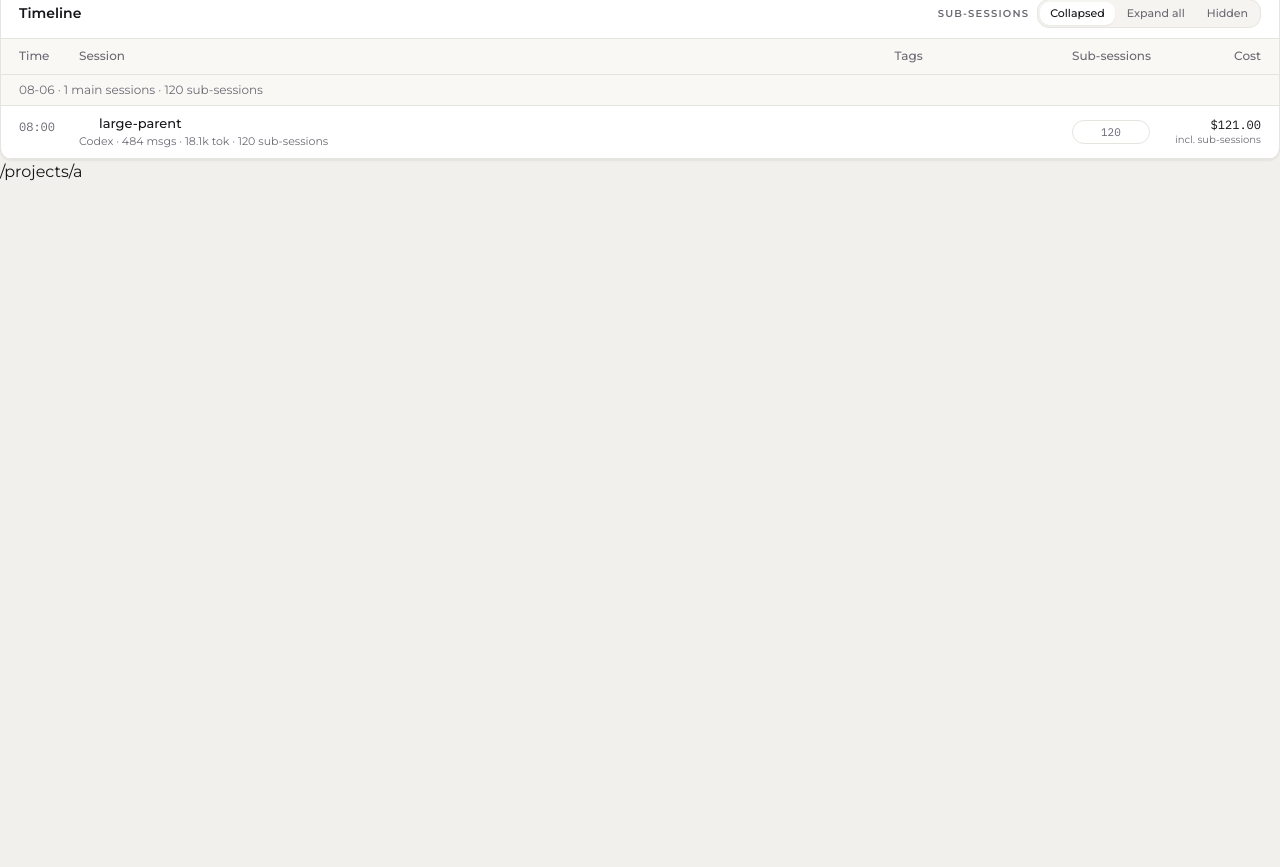
Test case: ProjectTimeline › derives and renders one bounded page of sub-sessions after expansion
Click the button "120": (1111, 132) [1072, 120, 1150, 144]
(page scrolled)
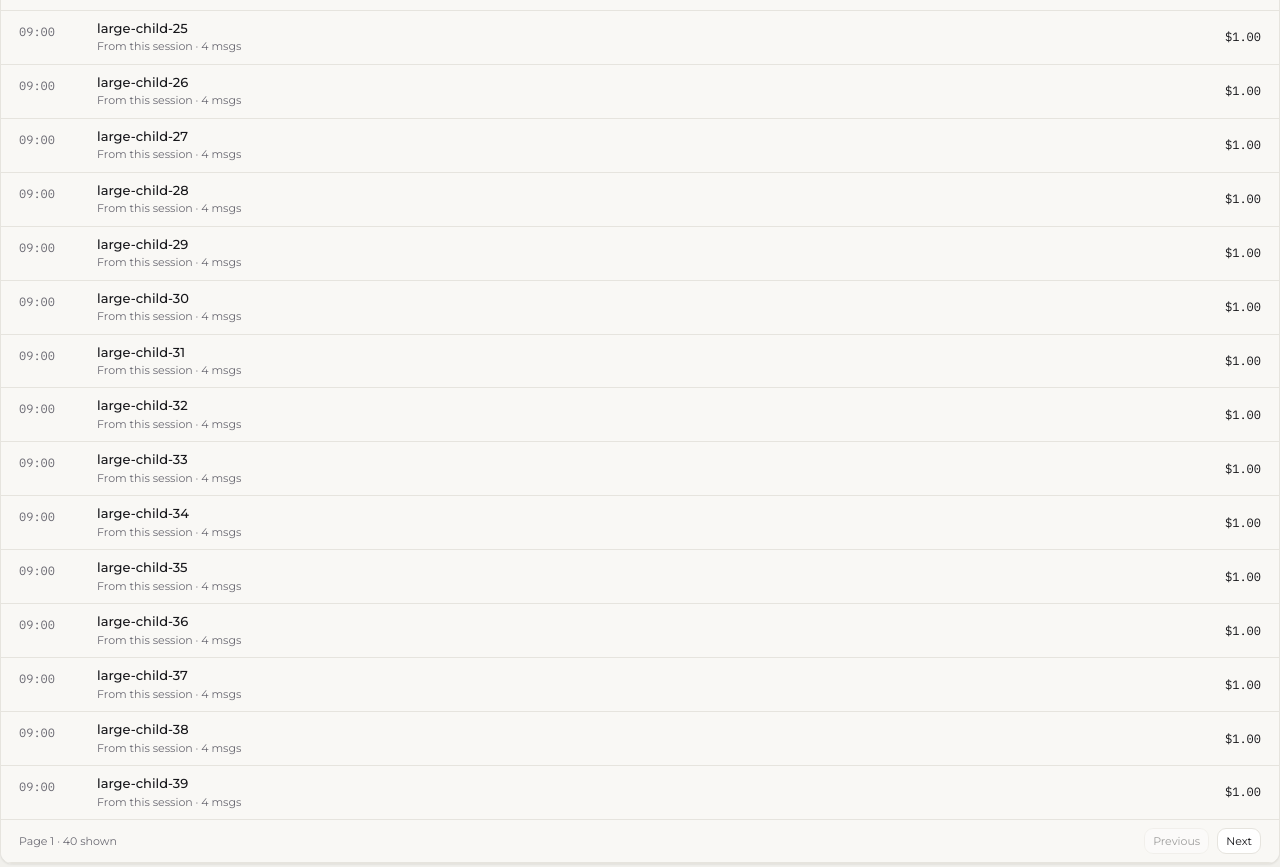
Click the button with aria-label "Next sub-session page": (1239, 841) [1217, 828, 1261, 854]
(page scrolled)
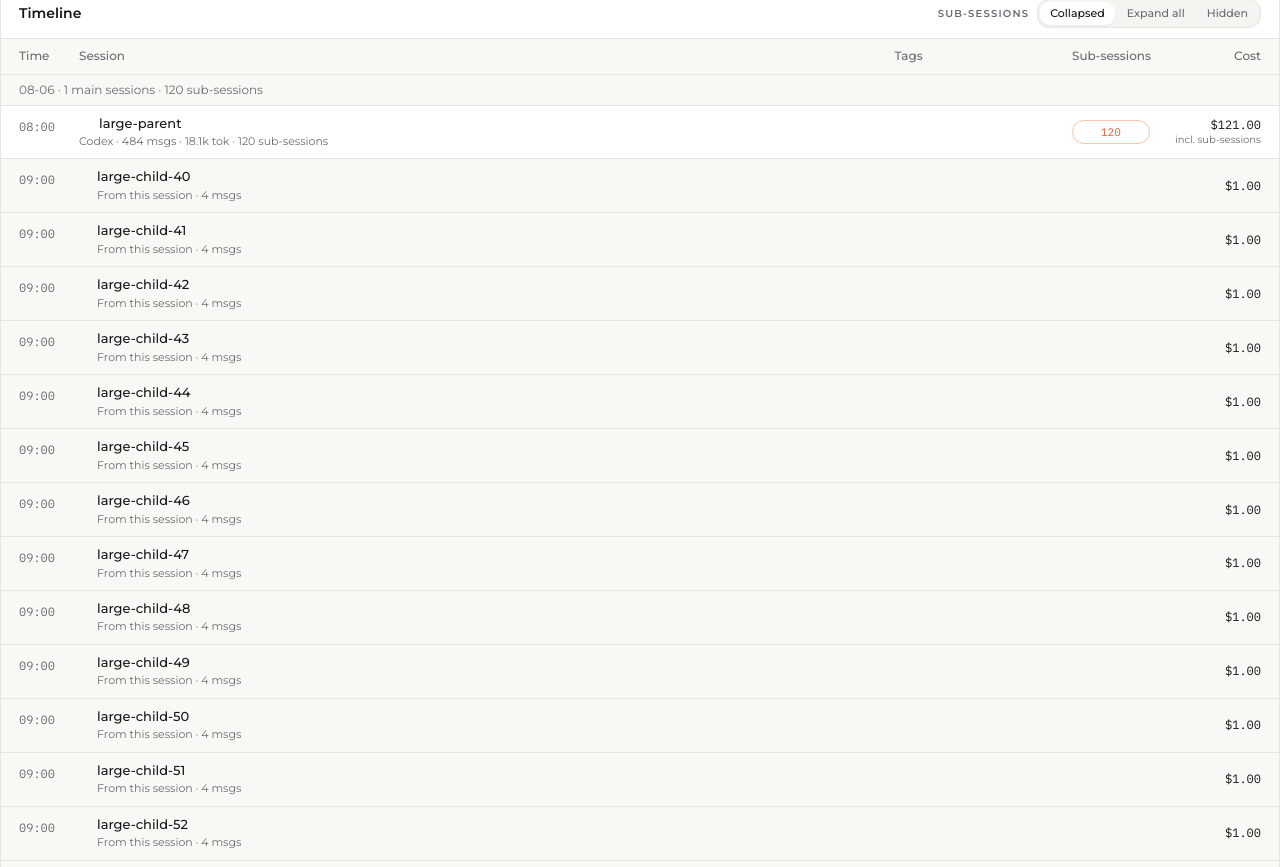
Now the number of buttons "large-child-40 From this session · 4 msgs" is 40
Now the button "large-child-40 From this session · 4 msgs" is shown, box [97, 168, 871, 203]
